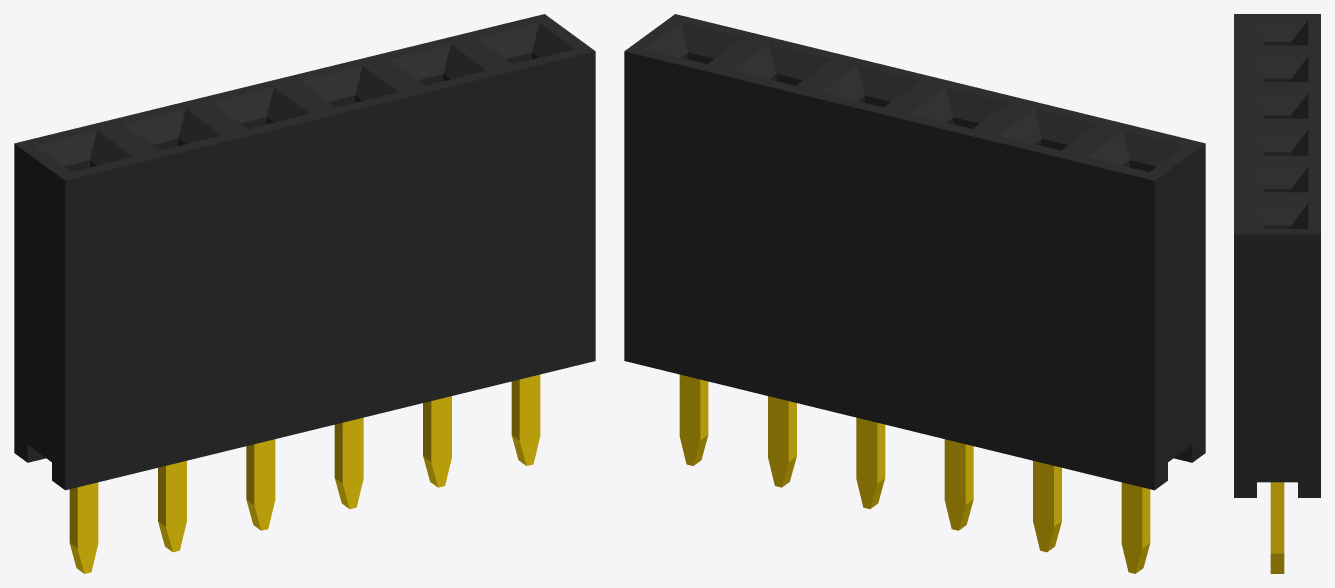
The model's file is PBS6.glb.
The picture shows the model from 3 angles, left to right: view 1: azimuth 30°, elevation 25°; view 2: azimuth 150°, elevation 25°; view 3: azimuth 270°, elevation 25°; orthographic projection. The views are drawn at different scales.
Visible parts, largest first — view 1: PBS (DS1023 CONNFLY); view 2: PBS (DS1023 CONNFLY); view 3: PBS (DS1023 CONNFLY).
Part boxes in pixels (x1,y1,x2,y2): PBS (DS1023 CONNFLY): [14, 14, 595, 573]; PBS (DS1023 CONNFLY): [624, 14, 1205, 573]; PBS (DS1023 CONNFLY): [1234, 14, 1320, 573].
Bounding box in the file's own units: 0.0152 × 0.0115 × 0.00254.
